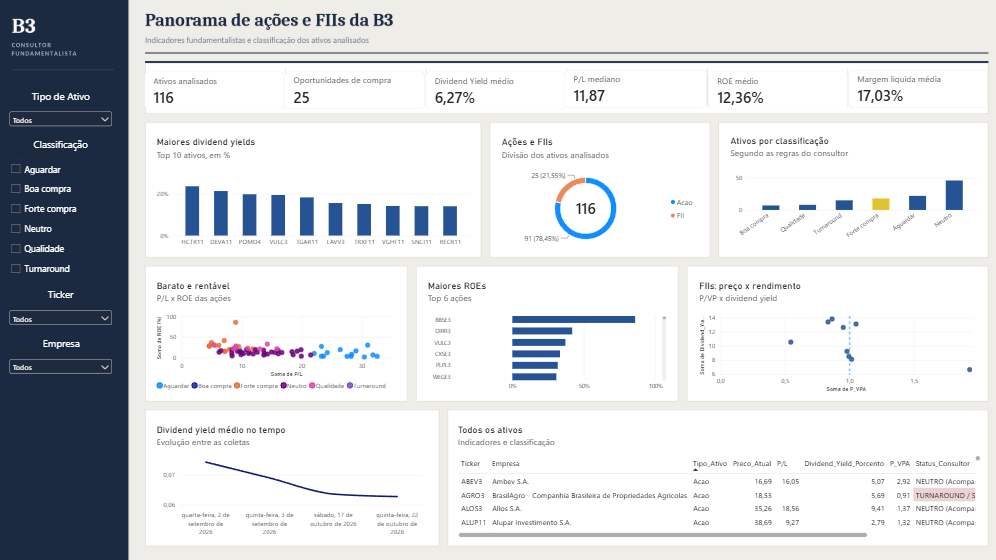

This screenshot's page, from the dashboard's own definition file:
{"tool":"powerbi","page":{"name":"Página 1","canvas":[1920,1080],"ordinal":0},"visuals":[{"type":"cardVisual","fields":{"Data":["Dados_Atuais.Qtd Ativos"]},"box":[282,138,266,72],"z":0},{"type":"cardVisual","fields":{"Data":["Dados_Atuais.Qtd Oportunidades"]},"box":[548.5,137.7,267.5,71.7],"z":1000},{"type":"cardVisual","fields":{"Data":["Dados_Atuais.DY Medio"]},"box":[816.2,137.7,266,72],"z":2000},{"type":"cardVisual","fields":{"Data":["Dados_Atuais.PL Mediano"]},"box":[1082.1,136.9,271.4,71.4],"z":3000},{"type":"cardVisual","fields":{"Data":["Dados_Atuais.ROE Medio"]},"box":[1354,138.1,266,72],"z":4000},{"type":"cardVisual","fields":{"Data":["Dados_Atuais.Margem Media"]},"box":[1620.4,136.3,266,72],"z":5000},{"type":"clusteredColumnChart","title":"Maiores dividend yields\t","fields":{"Category":["Dados_Atuais.Ticker"],"Y":["Dados_Atuais.DY Medio"]},"box":[288,247,627,244],"z":6000},{"type":"donutChart","title":"Ações e FIIs","fields":{"Category":["Dados_Atuais.Tipo_Ativo"],"Y":["Dados_Atuais.Qtd Ativos"]},"box":[945,247,406,244],"z":7000},{"type":"lineClusteredColumnComboChart","title":"Ativos por classificação","fields":{"Category":["Dados_Atuais.Classificacao"],"Y":["Dados_Atuais.Qtd Ativos"]},"box":[1382.1,246.2,505.1,243.6],"z":8000},{"type":"scatterChart","title":"Barato e rentável","fields":{"Category":["Dados_Atuais.Ticker"],"Series":["Dados_Atuais.Classificacao"],"X":["Sum(Dados_Atuais.P_L)"],"Y":["Sum(Dados_Atuais.ROE_Porcento)"]},"box":[288,521,487,244],"z":9000},{"type":"clusteredBarChart","title":"Maiores ROEs","fields":{"Category":["Dados_Atuais.Ticker"],"Y":["Dados_Atuais.ROE Medio"]},"box":[805,521,486,244],"z":10000},{"type":"scatterChart","title":"FIIs: preço x rendimento","fields":{"Category":["Dados_Atuais.Ticker"],"X":["Sum(Dados_Atuais.P_VPA)"],"Y":["Sum(Dados_Atuais.Dividend_Yield_Porcento)"]},"box":[1321,521,560,244],"z":11000},{"type":"lineChart","title":"Dividend yield médio no tempo","fields":{"Category":["Historico.Data_Analise"],"Y":["Dados_Atuais.DY Medio Hist"]},"box":[288,795,547,246],"z":12000},{"type":"tableEx","title":"Todos os ativos","fields":{"Values":["Dados_Atuais.Ticker","Dados_Atuais.Empresa","Dados_Atuais.Tipo_Ativo","Dados_Atuais.Preco_Atual","Sum(Dados_Atuais.P_L)","Dados_Atuais.Dividend_Yield_Porcento","Dados_Atuais.P_VPA","Dados_Atuais.Status_Consultor","Sum(Dados_Atuais.ROE_Porcento)"]},"box":[861.5,794.2,1026.9,246.2],"z":13000},{"type":"slicer","fields":{"Values":["Dados_Atuais.Tipo_Ativo"]},"box":[19.2,209.6,205,55],"z":14000},{"type":"textbox","box":[19.7,172.1,204.9,37.7],"z":15000},{"type":"textbox","box":[20,264.4,204.4,40],"z":16000},{"type":"textbox","box":[19.7,550.8,204.9,37.7],"z":17000},{"type":"slicer","fields":{"Values":["Dados_Atuais.Ticker"]},"box":[19.6,589.3,205,55],"z":18000},{"type":"slicer","fields":{"Values":["Dados_Atuais.Empresa"]},"box":[19.7,662.3,205,55],"z":19000},{"type":"textbox","box":[19.7,642.6,206.6,39.3],"z":20000},{"type":"slicer","fields":{"Values":["Dados_Atuais.Classificacao"]},"box":[19.7,285.2,206.6,254.1],"z":21000}]}

Visuals, with their boxes in screenshot pixels (x1, y1, x2, y2), scaled from the page's 1920x1080 canvas onto the 996x560 screenshot:
cardVisual - Dados_Atuais.Qtd Ativos: left=146, top=72, right=284, bottom=109
cardVisual - Dados_Atuais.Qtd Oportunidades: left=285, top=71, right=423, bottom=109
cardVisual - Dados_Atuais.DY Medio: left=423, top=71, right=561, bottom=109
cardVisual - Dados_Atuais.PL Mediano: left=561, top=71, right=702, bottom=108
cardVisual - Dados_Atuais.ROE Medio: left=702, top=72, right=840, bottom=109
cardVisual - Dados_Atuais.Margem Media: left=841, top=71, right=979, bottom=108
"Maiores dividend yields	" clusteredColumnChart: left=149, top=128, right=475, bottom=255
"Ações e FIIs" donutChart: left=490, top=128, right=701, bottom=255
"Ativos por classificação" lineClusteredColumnComboChart: left=717, top=128, right=979, bottom=254
"Barato e rentável" scatterChart: left=149, top=270, right=402, bottom=397
"Maiores ROEs" clusteredBarChart: left=418, top=270, right=670, bottom=397
"FIIs: preço x rendimento" scatterChart: left=685, top=270, right=976, bottom=397
"Dividend yield médio no tempo" lineChart: left=149, top=412, right=433, bottom=540
"Todos os ativos" tableEx: left=447, top=412, right=980, bottom=539
slicer - Dados_Atuais.Tipo_Ativo: left=10, top=109, right=116, bottom=137
textbox: left=10, top=89, right=117, bottom=109
textbox: left=10, top=137, right=116, bottom=158
textbox: left=10, top=286, right=117, bottom=305
slicer - Dados_Atuais.Ticker: left=10, top=306, right=117, bottom=334
slicer - Dados_Atuais.Empresa: left=10, top=343, right=117, bottom=372
textbox: left=10, top=333, right=117, bottom=354
slicer - Dados_Atuais.Classificacao: left=10, top=148, right=117, bottom=280
